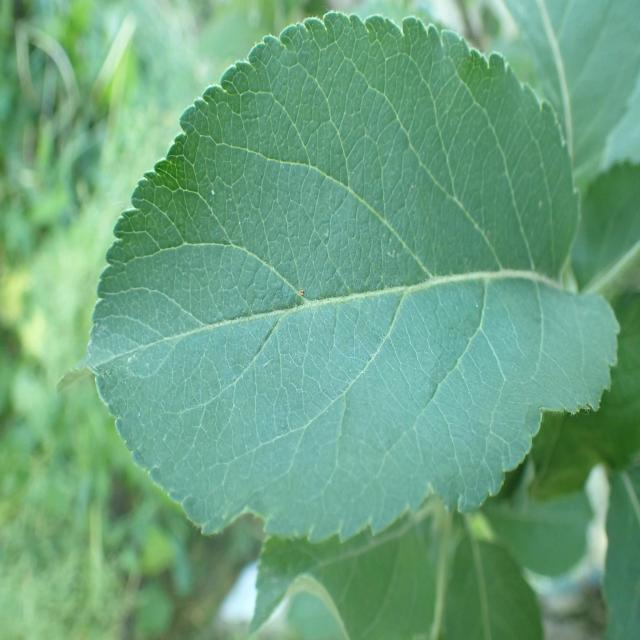healthy: (56, 10, 621, 542), (248, 500, 545, 640), (501, 0, 640, 193)
